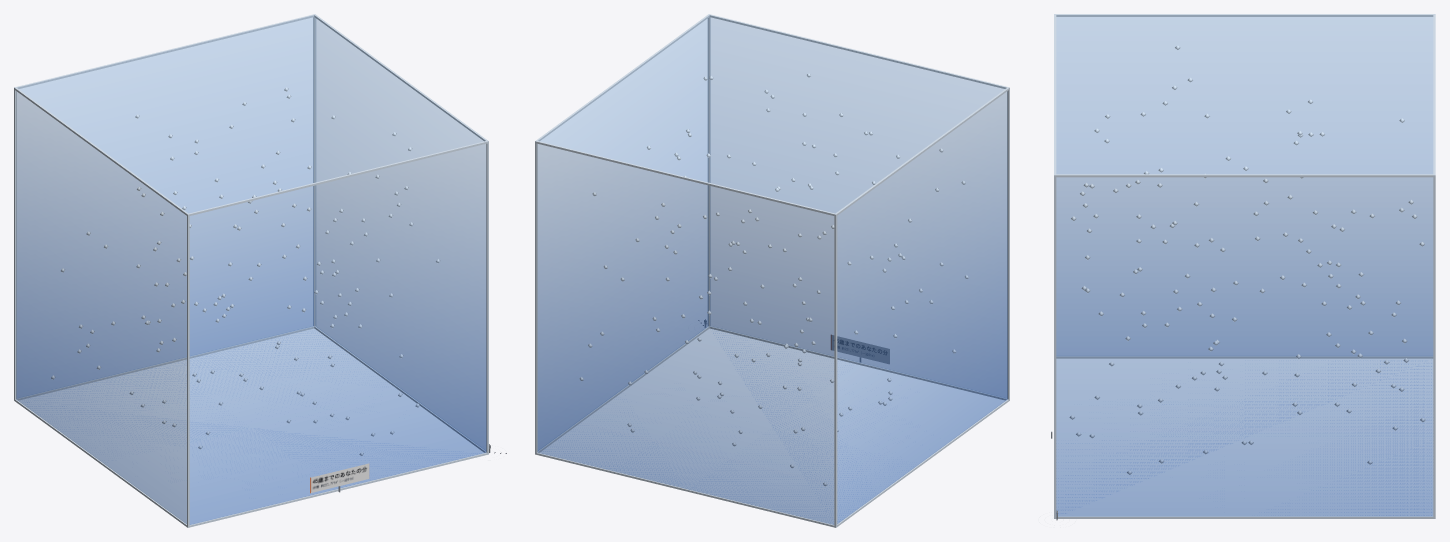
The model's file is cube_life_45.glb.
The picture shows the model from 3 angles, left to right: view 1: azimuth 30°, elevation 25°; view 2: azimuth 150°, elevation 25°; view 3: azimuth 270°, elevation 25°; orthographic projection. The views are drawn at different scales.
Visible parts, largest first — view 1: co2, edge, dots, label; view 2: co2, edge, dots, label; view 3: co2, edge, dots.
Part boxes in pixels (x1,y1,x2,y2): co2: (16, 15, 486, 524); edge: (14, 14, 488, 527); dots: (51, 87, 440, 455); label: (310, 463, 369, 493); co2: (537, 15, 1007, 524); edge: (535, 14, 1009, 527); dots: (579, 73, 968, 486); label: (831, 335, 889, 363); co2: (1056, 15, 1433, 516); edge: (1054, 14, 1435, 518); dots: (1069, 45, 1425, 474).
Size of the model in its own units: 64.28 by 60.53 by 63.38.
8 materials, 3 textured.
